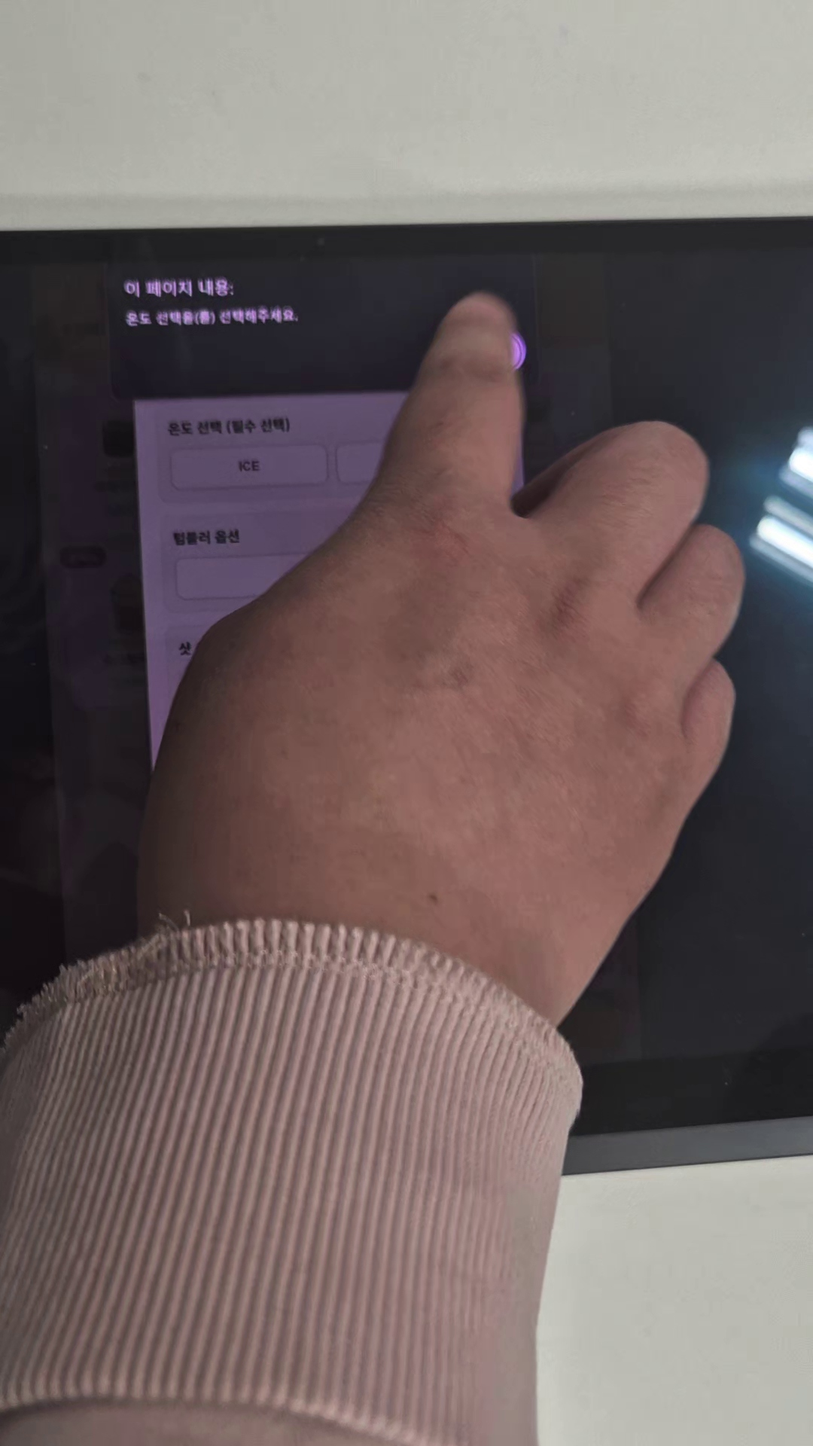option_button: (169, 445, 329, 488)
